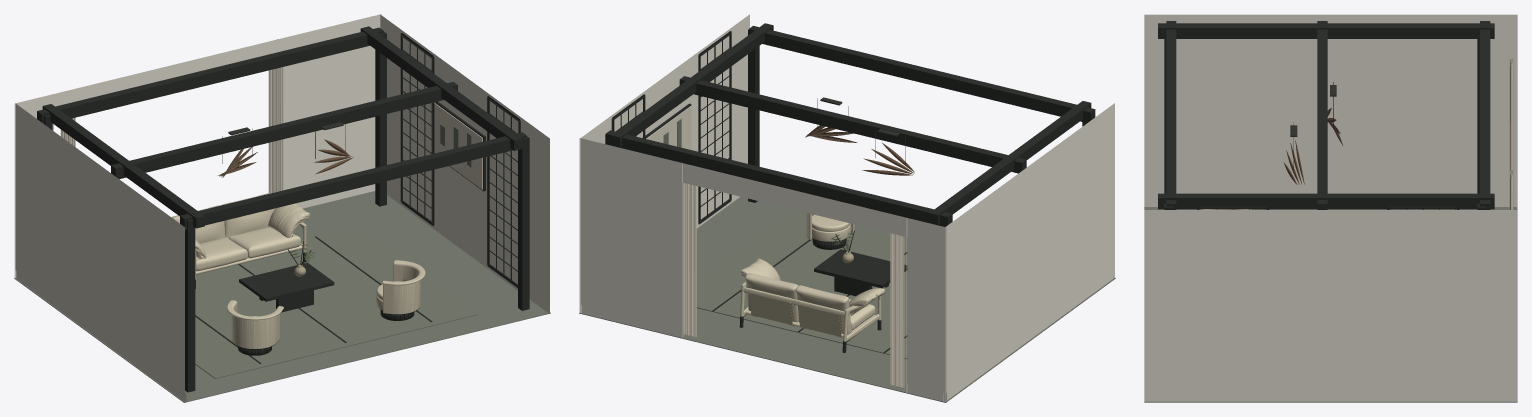
The model's file is great-1.glb.
The picture shows the model from 3 angles, left to right: view 1: azimuth 30°, elevation 25°; view 2: azimuth 150°, elevation 25°; view 3: azimuth 270°, elevation 25°; orthographic projection. The views are drawn at different scales.
Visible parts, largest first — view 1: DESIGN | great removable wall finish, DESIGN | Great room primary ground, DESIGN | great floor finish, DESIGN | Great room sofa facing conversation, DESIGN | Great room timber ceiling member, DESIGN | Great room timber ceiling member.001, DESIGN | Great room timber ceiling member.002, DESIGN | Great room structural edge.001, DESIGN | Great room structural edge, DESIGN | Required Bellustar swivel chair two, DESIGN | Great room conversation table top, DESIGN | Great room timber end post.002 (+9 smaller); view 2: DESIGN | great removable wall finish, DESIGN | great floor finish, DESIGN | Great room primary ground, DESIGN | Great room sofa facing conversation, DESIGN | Great room timber ceiling member, DESIGN | Great room timber ceiling member.001, DESIGN | Great room timber ceiling member.002, DESIGN | Great room structural edge.001, DESIGN | Great room structural edge, DESIGN | Great room soft window edge, DESIGN | Great room soft window edge.001, DESIGN | Great room conversation table top (+6 smaller); view 3: DESIGN | great removable wall finish, DESIGN | Great room structural edge, DESIGN | Great room structural edge.001, DESIGN | Great room timber ceiling member.001, DESIGN | Great room timber ceiling member.002, DESIGN | Great room timber ceiling member, DESIGN | great floor finish, DESIGN | Great room soft window edge, DESIGN | Great room timber end post, DESIGN | Great room timber end post.001, DESIGN | Required Flou pendant 2.
Part boxes in pixels (x1,y1,x2,y2): DESIGN | great removable wall finish: (14, 14, 549, 401); DESIGN | Great room primary ground: (195, 226, 478, 378); DESIGN | great floor finish: (14, 191, 550, 402); DESIGN | Great room sofa facing conversation: (171, 193, 309, 288); DESIGN | Great room timber ceiling member: (180, 132, 526, 230); DESIGN | Great room timber ceiling member.001: (111, 82, 457, 179); DESIGN | Great room timber ceiling member.002: (37, 27, 383, 123); DESIGN | Great room structural edge.001: (360, 26, 522, 150); DESIGN | Great room structural edge: (42, 104, 204, 228); DESIGN | Required Bellustar swivel chair two: (376, 260, 425, 320); DESIGN | Great room conversation table top: (239, 262, 334, 301); DESIGN | Great room timber end post.002: (518, 136, 529, 310); DESIGN | great removable wall finish: (579, 14, 1114, 401); DESIGN | great floor finish: (579, 196, 1115, 402); DESIGN | Great room primary ground: (696, 213, 907, 359); DESIGN | Great room sofa facing conversation: (739, 258, 884, 352); DESIGN | Great room timber ceiling member: (748, 25, 1095, 122); DESIGN | Great room timber ceiling member.001: (679, 76, 1026, 173); DESIGN | Great room timber ceiling member.002: (605, 130, 952, 226); DESIGN | Great room structural edge.001: (611, 23, 773, 147); DESIGN | Great room structural edge: (929, 101, 1091, 225); DESIGN | Great room soft window edge: (890, 233, 904, 387); DESIGN | Great room soft window edge.001: (683, 182, 696, 337); DESIGN | Great room conversation table top: (814, 249, 907, 288); DESIGN | great removable wall finish: (1144, 14, 1517, 401); DESIGN | Great room structural edge: (1158, 23, 1494, 38); DESIGN | Great room structural edge.001: (1158, 193, 1494, 209); DESIGN | Great room timber ceiling member.001: (1317, 21, 1327, 209); DESIGN | Great room timber ceiling member.002: (1480, 21, 1490, 209); DESIGN | Great room timber ceiling member: (1166, 21, 1176, 209); DESIGN | great floor finish: (1144, 207, 1517, 402); DESIGN | Great room soft window edge: (1509, 59, 1513, 170); DESIGN | Great room timber end post: (1164, 39, 1166, 193); DESIGN | Great room timber end post.001: (1477, 39, 1479, 193); DESIGN | Required Flou pendant 2: (1283, 140, 1304, 184).
Size of the model in its own units: 6 by 2.78 by 4.82.
